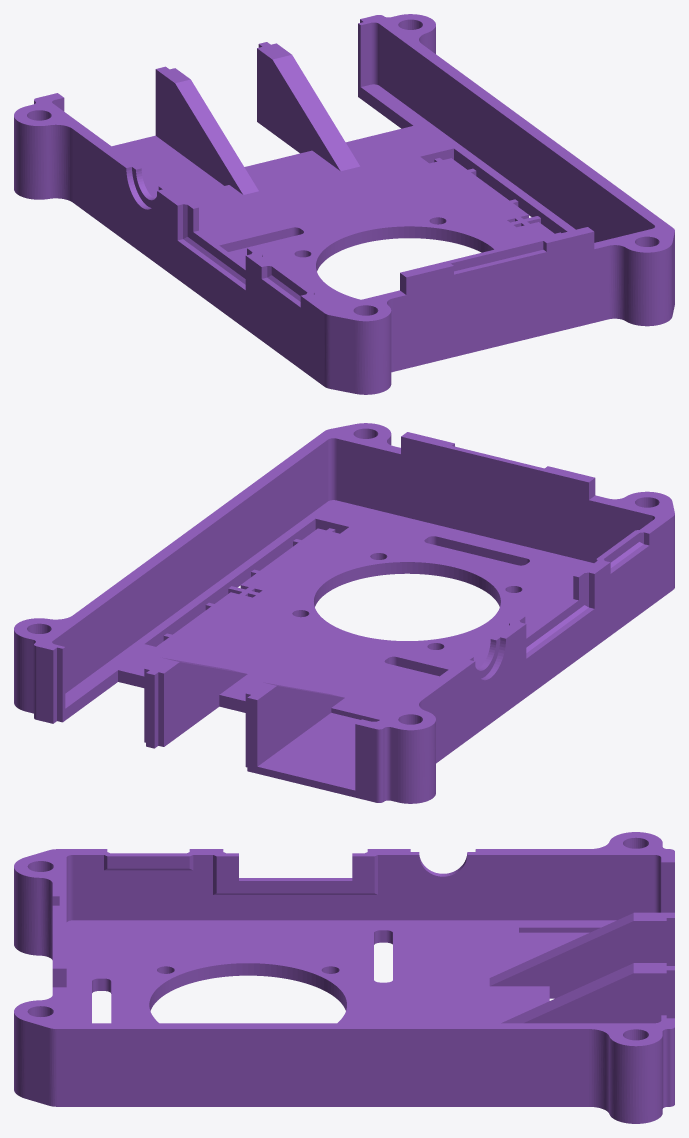
File: RPISuperior.glb
The picture shows the model from 3 angles, top to bottom: view 1: azimuth 30°, elevation 25°; view 2: azimuth 150°, elevation 25°; view 3: azimuth 270°, elevation 25°; orthographic projection. The views are drawn at different scales.
Visible parts, largest first — view 1: Mesh_0.005; view 2: Mesh_0.005; view 3: Mesh_0.005.
Boxes of the visible parts, bbox=[...] form: Mesh_0.005: bbox=[14, 14, 674, 394]; Mesh_0.005: bbox=[14, 423, 674, 803]; Mesh_0.005: bbox=[14, 832, 674, 1123].
Bounding box in the file's own units: 73.8 × 15.5 × 96.25.
